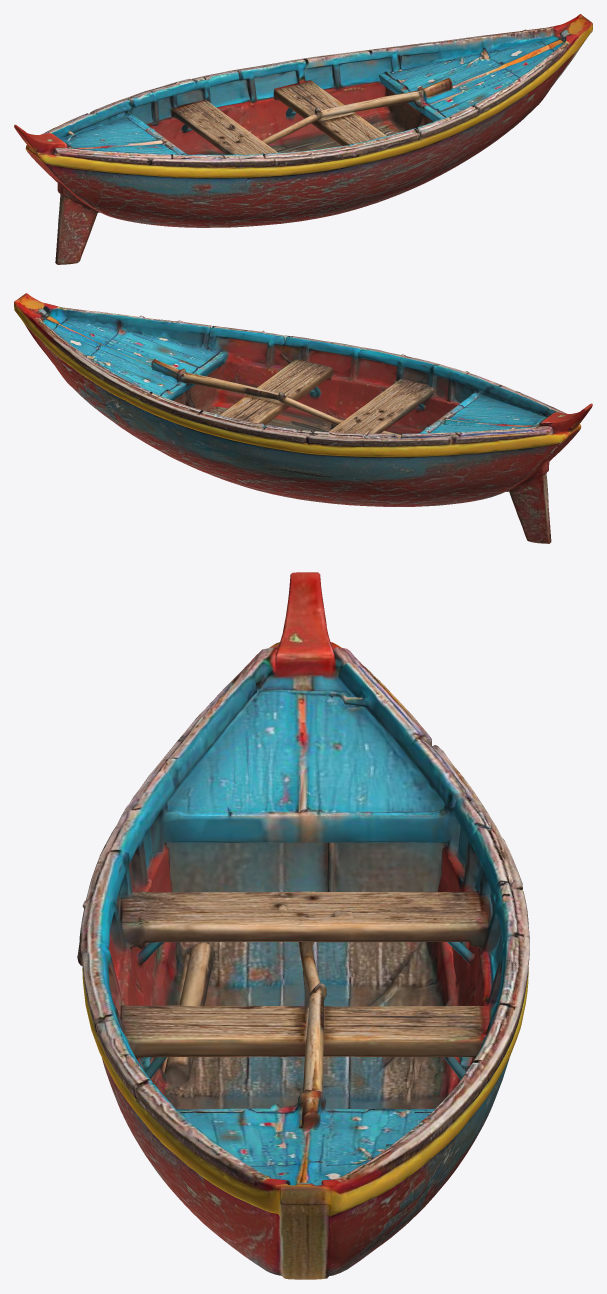
File: boat-game-1k.glb
3 views of the same model, one above another, from view 1: azimuth 30°, elevation 25°; view 2: azimuth 150°, elevation 25°; view 3: azimuth 270°, elevation 25° (orthographic). The views are drawn at different scales.
Visible parts, largest first — view 1: tripo_node_ce566a43-ad53-47f5-b3ce-cf83857ab32c; view 2: tripo_node_ce566a43-ad53-47f5-b3ce-cf83857ab32c; view 3: tripo_node_ce566a43-ad53-47f5-b3ce-cf83857ab32c.
Part boxes in pixels (x1=…): tripo_node_ce566a43-ad53-47f5-b3ce-cf83857ab32c: x1=14, y1=14, x2=592, y2=264; tripo_node_ce566a43-ad53-47f5-b3ce-cf83857ab32c: x1=14, y1=293, x2=592, y2=543; tripo_node_ce566a43-ad53-47f5-b3ce-cf83857ab32c: x1=77, y1=572, x2=529, y2=1279.
Bounding box in the file's own units: 1 × 0.25 × 0.3437.
1 material, 1 textured.
